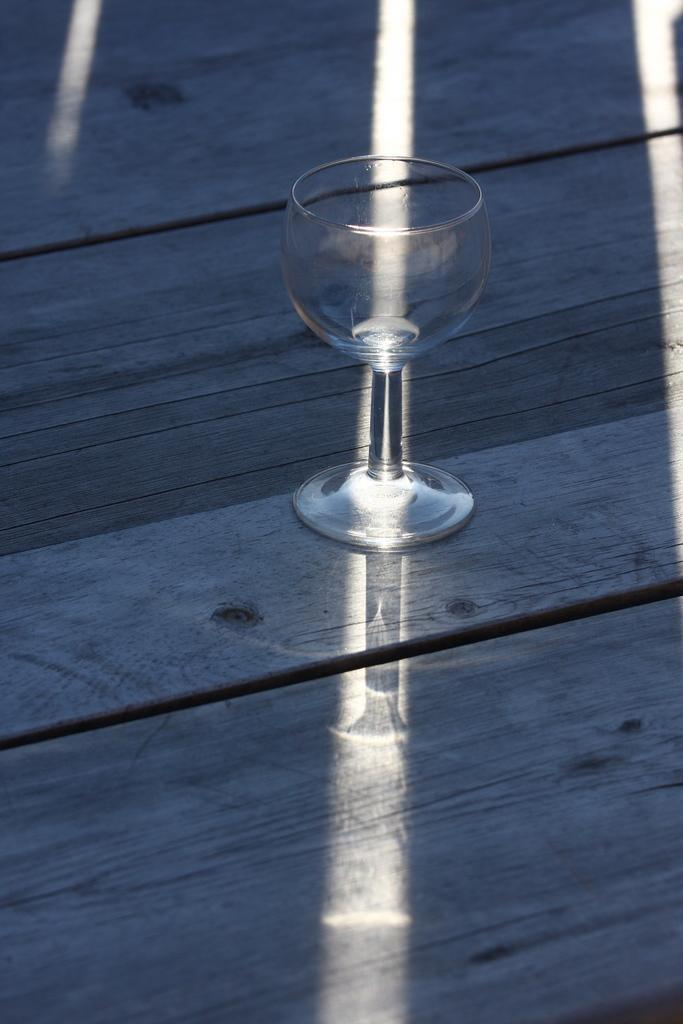glass-wine: (280, 157, 491, 551)
